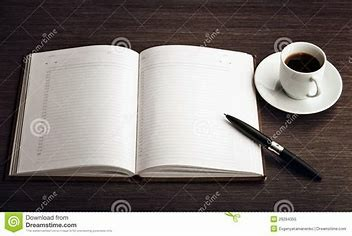pen: (221, 111, 324, 178)
